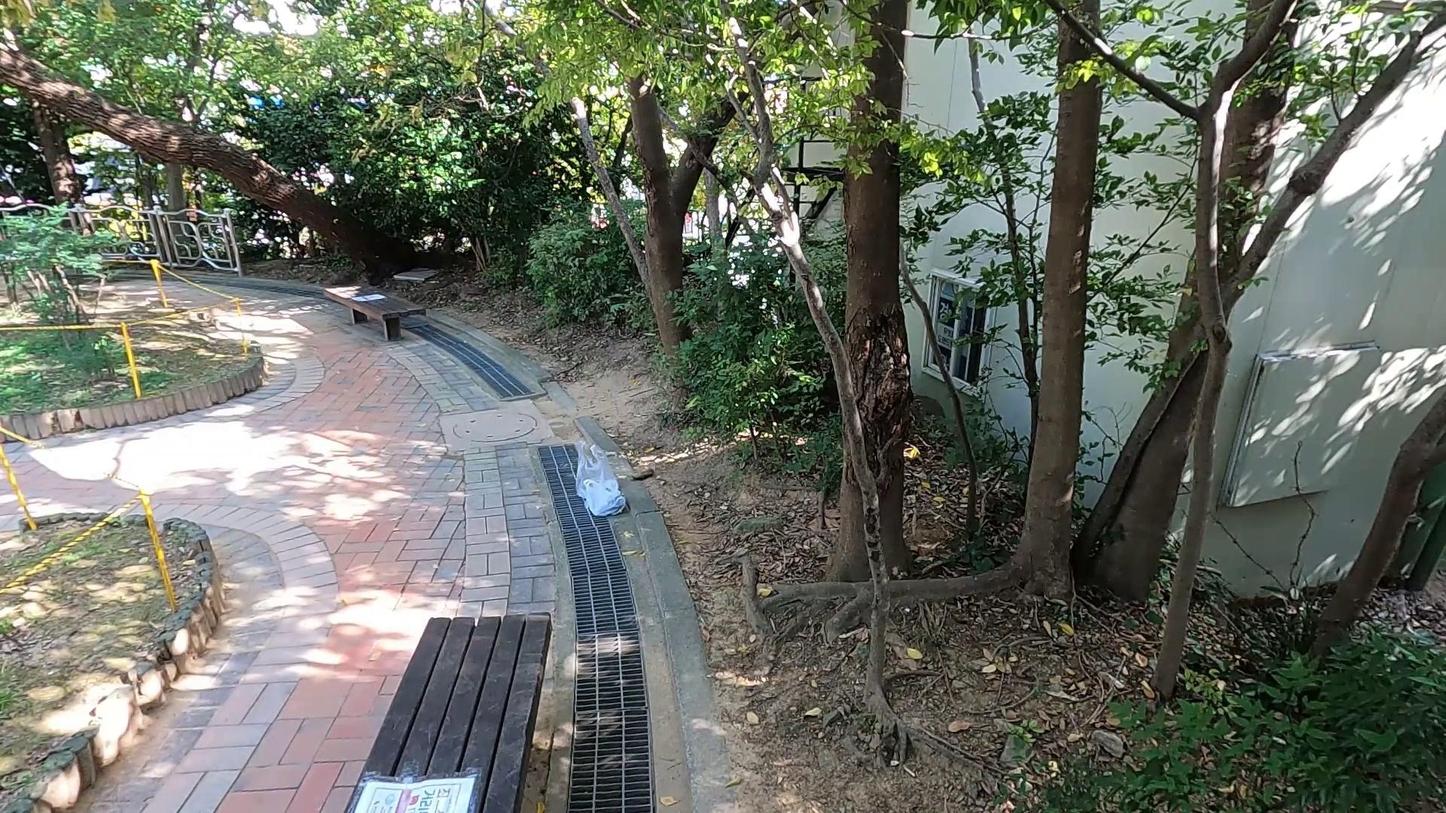trash: (570, 440, 618, 500), (579, 482, 629, 518)
